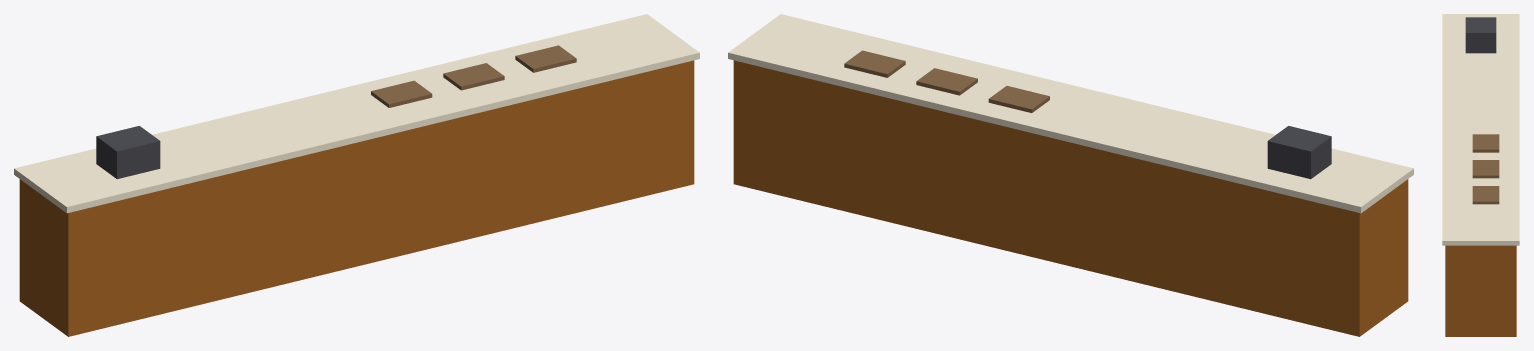
The model's file is food_taco.glb.
3 renders of one model, left to right at view 1: azimuth 30°, elevation 25°; view 2: azimuth 150°, elevation 25°; view 3: azimuth 270°, elevation 25°, orthographic. The views are drawn at different scales.
Visible parts, largest first — view 1: Box1, Box2, Box3, Box4, Box5, Box6; view 2: Box1, Box2, Box3, Box4, Box5, Box6; view 3: Box2, Box1, Box3, Box6, Box4, Box5.
Boxes of the visible parts, left/top/right/bottom form: Box1: left=19, top=60, right=694, bottom=336; Box2: left=14, top=14, right=699, bottom=213; Box3: left=96, top=126, right=160, bottom=179; Box4: left=515, top=45, right=576, bottom=72; Box5: left=443, top=63, right=504, bottom=90; Box6: left=371, top=80, right=432, bottom=107; Box1: left=733, top=60, right=1408, bottom=336; Box2: left=728, top=14, right=1413, bottom=213; Box3: left=1267, top=126, right=1331, bottom=179; Box4: left=844, top=50, right=905, bottom=77; Box5: left=916, top=68, right=977, bottom=95; Box6: left=988, top=86, right=1049, bottom=112; Box2: left=1442, top=14, right=1519, bottom=245; Box1: left=1445, top=245, right=1516, bottom=336; Box3: left=1465, top=17, right=1496, bottom=53; Box6: left=1472, top=134, right=1499, bottom=152; Box4: left=1472, top=186, right=1499, bottom=204; Box5: left=1472, top=160, right=1499, bottom=178.
Size of the model in its own units: 5.26 by 1.27 by 0.76.
